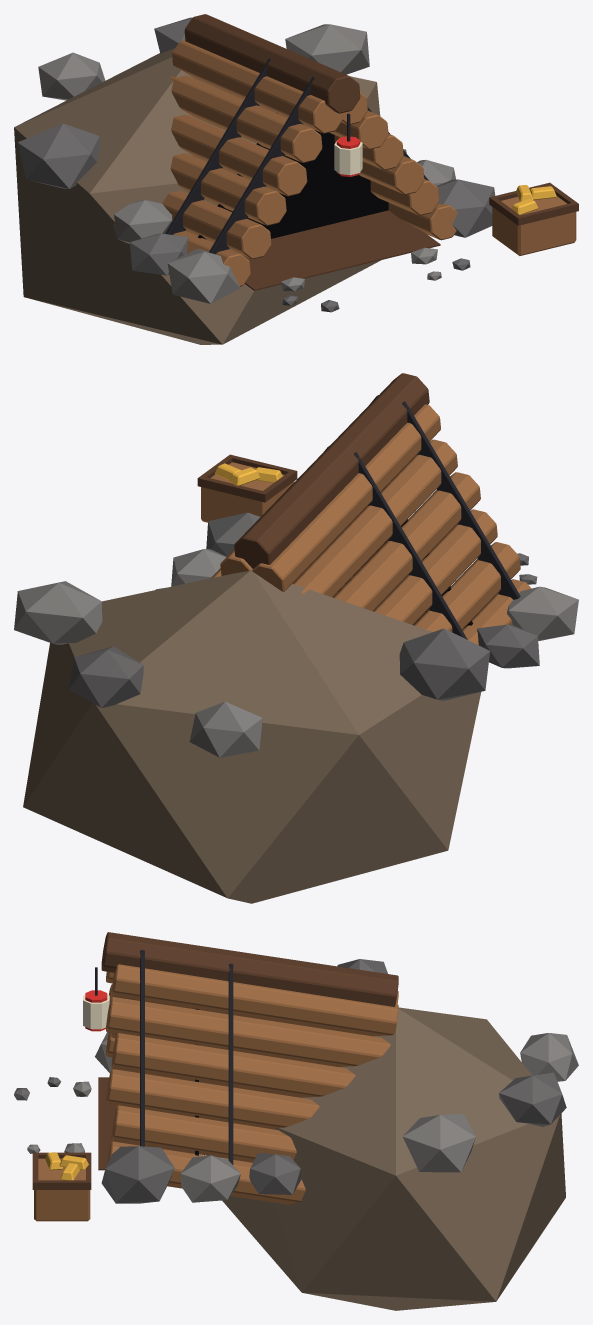
Rendered from Mine_Entrance.fbx.
3 views of the same model, one above another, from view 1: azimuth 30°, elevation 25°; view 2: azimuth 150°, elevation 25°; view 3: azimuth 270°, elevation 25° (orthographic). The views are drawn at different scales.
Parts seen in each view (by area): view 1: earth, timber, spool, stone, stone_dk, void, iron_dk, paper, gold; view 2: earth, timber, stone_dk, stone, spool, iron_dk, gold; view 3: earth, timber, spool, stone_dk, stone, iron_dk, gold, paper.
Part boxes in pixels (<box>): earth: <box>14,48,381,344</box>; timber: <box>162,40,576,286</box>; spool: <box>184,14,578,290</box>; stone: <box>38,24,456,303</box>; stone_dk: <box>17,17,495,312</box>; void: <box>198,113,388,239</box>; iron_dk: <box>165,58,428,254</box>; paper: <box>334,140,362,175</box>; gold: <box>511,185,556,215</box>; earth: <box>23,569,481,903</box>; timber: <box>201,404,531,644</box>; stone_dk: <box>69,512,539,707</box>; stone: <box>14,549,578,757</box>; spool: <box>197,373,450,586</box>; iron_dk: <box>324,395,520,639</box>; gold: <box>214,463,282,486</box>; earth: <box>222,1007,565,1310</box>; timber: <box>34,964,398,1221</box>; spool: <box>32,932,398,1189</box>; stone_dk: <box>14,959,566,1203</box>; stone: <box>27,1032,578,1202</box>; iron_dk: <box>95,950,233,1164</box>; gold: <box>45,1152,88,1180</box>; paper: <box>83,995,109,1029</box>.
Size of the model in its own units: 11.36 by 10.31 by 14.05.
